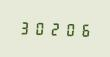six: (74, 20, 87, 38)
three: (18, 18, 31, 36)
two: (46, 19, 59, 37)
zero: (32, 19, 45, 36), (60, 20, 73, 37)
